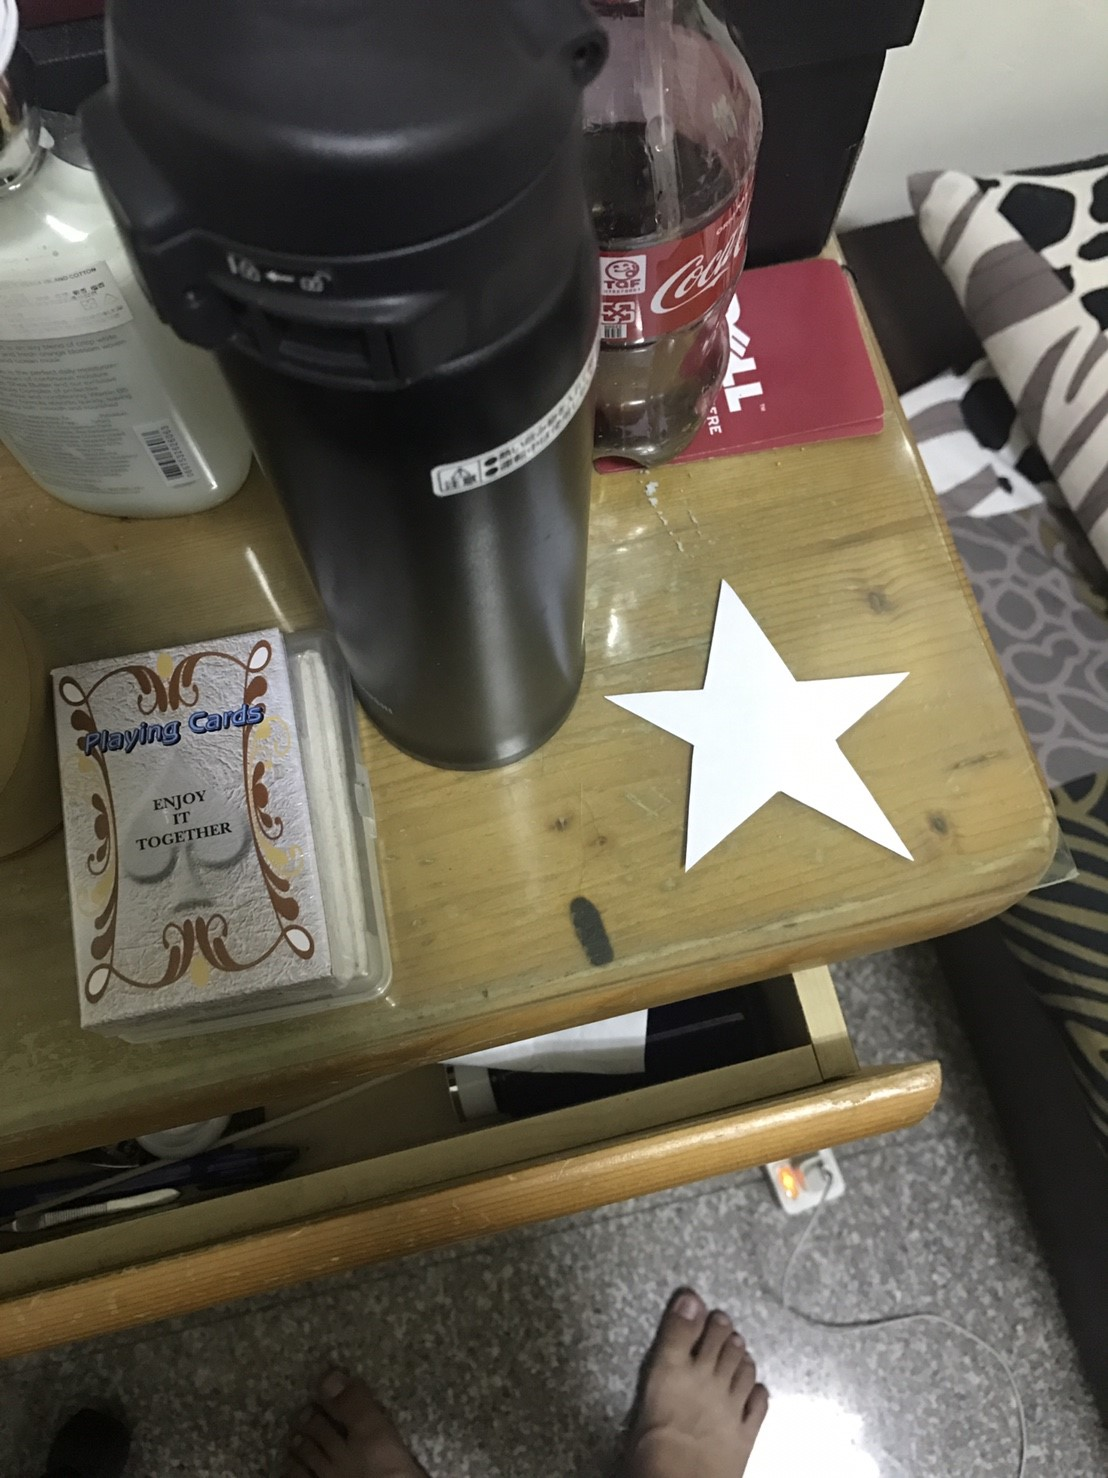star: (594, 540, 994, 941)
